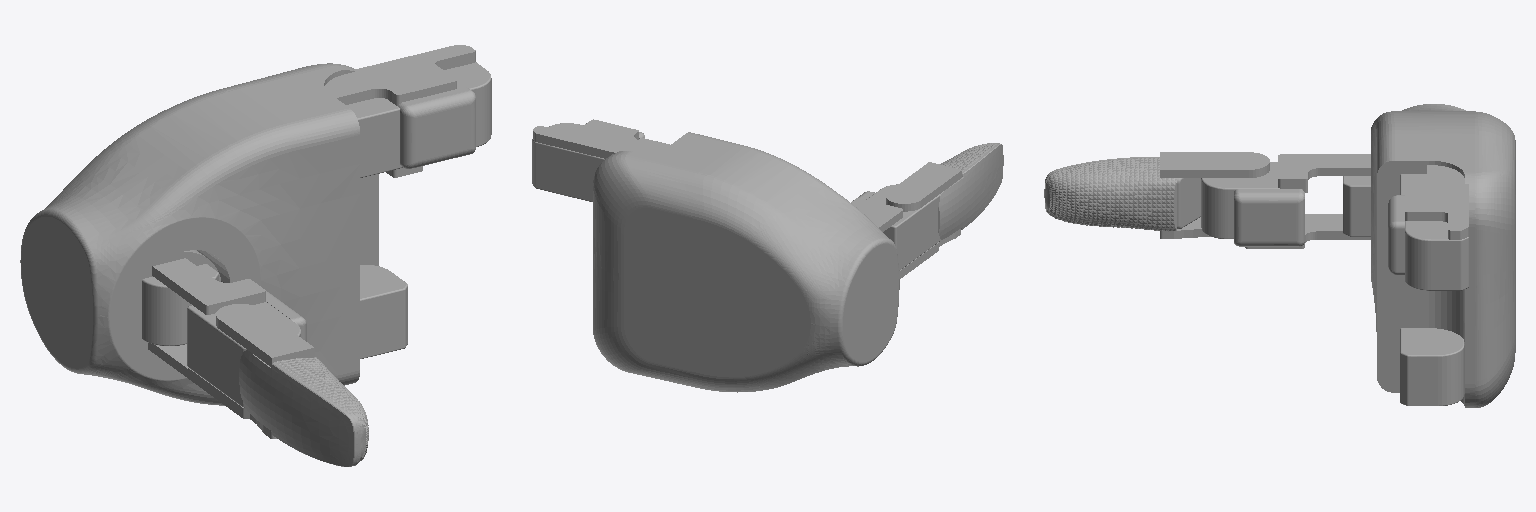
URDF robot description (g1_29dof_with_hand_rev_1_0):
<robot name="g1_29dof_with_hand_rev_1_0">
  <mujoco>
    <compiler meshdir="meshes" discardvisual="false"/>
  </mujoco>

  <!-- [CAUTION] uncomment when convert to mujoco -->
  <!-- <link name="world"></link>
  <joint name="floating_base_joint" type="floating">
    <parent link="world"/>
    <child link="left_hand_palm_link"/>
  </joint> -->

  <link name="left_hand_palm_link">
    <inertial>
      <origin xyz="0.06214634836 -0.00050869656 -0.00058171093" rpy="0 0 0"/>
      <mass value="0.37283854"/>
      <inertia ixx="0.00027535181027" ixy="-0.00001595519465" ixz="-0.00000242161890" iyy="0.00053951827219" iyz="-0.00000042279435" izz="0.00039623390907"/>
    </inertial>
    <visual>
      <origin xyz="0 0 0" rpy="0 0 0"/>
      <geometry>
        <mesh filename="meshes/left_hand_palm_link.STL"/>
      </geometry>
      <material name="white">
        <color rgba="0.7 0.7 0.7 1"/>
      </material>
    </visual>
    <collision>
      <origin xyz="0 0 0" rpy="0 0 0"/>
      <geometry>
        <mesh filename="meshes/left_hand_palm_link.STL"/>
      </geometry>
    </collision>
  </link>
  <joint name="left_hand_thumb_0_joint" type="revolute">
    <origin xyz="0.0255 0 0" rpy="0 0 0"/>
    <axis xyz="0 1 0"/>
    <parent link="left_hand_palm_link"/>
    <child link="left_hand_thumb_0_link"/>
    <limit effort="2.45" velocity="6.857" lower="-1.04719755" upper="1.04719755"/>
  </joint>
  <link name="left_hand_thumb_0_link">
    <inertial>
      <origin xyz="-0.00088424580 -0.00863407079 0.00094429336" rpy="0 0 0"/>
      <mass value="0.08623657"/>
      <inertia ixx="0.00001602919238" ixy="0.00000010683177" ixz="0.00000016728875" iyy="0.00001451795012" iyz="-0.00000051094752" izz="0.00001637877663"/>
    </inertial>
    <visual>
      <origin xyz="0 0 0" rpy="0 0 0"/>
      <geometry>
        <mesh filename="meshes/left_hand_thumb_0_link.STL"/>
      </geometry>
      <material name="white">
        <color rgba="0.7 0.7 0.7 1"/>
      </material>
    </visual>
    <collision>
      <origin xyz="0 0 0" rpy="0 0 0"/>
      <geometry>
        <mesh filename="meshes/left_hand_thumb_0_link.STL"/>
      </geometry>
    </collision>
  </link>
  <joint name="left_hand_thumb_1_joint" type="revolute">
    <origin xyz="-0.0025 -0.0193 0" rpy="0 0 0"/>
    <axis xyz="0 0 1"/>
    <parent link="left_hand_thumb_0_link"/>
    <child link="left_hand_thumb_1_link"/>
    <limit effort="1.4" velocity="12" lower="-0.72431163" upper="1.04719755"/>
  </joint>
  <link name="left_hand_thumb_1_link">
    <inertial>
      <origin xyz="-0.00082788768 -0.03547435774 -0.00038089960" rpy="0 0 0"/>
      <mass value="0.05885070"/>
      <inertia ixx="0.00001274699945" ixy="-0.00000050770784" ixz="0.00000016088850" iyy="0.00000601573947" iyz="-0.00000027839003" izz="0.00001234543582"/>
    </inertial>
    <visual>
      <origin xyz="0 0 0" rpy="0 0 0"/>
      <geometry>
        <mesh filename="meshes/left_hand_thumb_1_link.STL"/>
      </geometry>
      <material name="white">
        <color rgba="0.7 0.7 0.7 1"/>
      </material>
    </visual>
    <collision>
      <origin xyz="-0.001 -0.032 0" rpy="0 0 0"/>
      <geometry>
        <box size="0.02 0.03 0.02"/>
      </geometry>
    </collision>
  </link>
  <joint name="left_hand_thumb_2_joint" type="revolute">
    <origin xyz="0 -0.0458 0" rpy="0 0 0"/>
    <axis xyz="0 0 1"/>
    <parent link="left_hand_thumb_1_link"/>
    <child link="left_hand_thumb_2_link"/>
    <limit effort="1.4" velocity="12" lower="0" upper="1.74532925"/>
  </joint>
  <link name="left_hand_thumb_2_link">
    <inertial>
      <origin xyz="-0.00171735242 -0.02628192939 0.00010778879" rpy="0 0 0"/>
      <mass value="0.02030626"/>
      <inertia ixx="0.00000461267817" ixy="-0.00000003422130" ixz="-0.00000000823881" iyy="0.00000153561368" iyz="-0.00000002549885" izz="0.00000386625776"/>
    </inertial>
    <visual>
      <origin xyz="0 0 0" rpy="0 0 0"/>
      <geometry>
        <mesh filename="meshes/left_hand_thumb_2_link.STL"/>
      </geometry>
      <material name="white">
        <color rgba="0.7 0.7 0.7 1"/>
      </material>
    </visual>
    <collision>
      <origin xyz="0 0 0" rpy="0 0 0"/>
      <geometry>
        <mesh filename="meshes/left_hand_thumb_2_link.STL"/>
      </geometry>
    </collision>
  </link>
  <joint name="left_hand_middle_0_joint" type="revolute">
    <origin xyz="0.0777 0.0016 -0.0285" rpy="0 0 0"/>
    <axis xyz="0 0 1"/>
    <parent link="left_hand_palm_link"/>
    <child link="left_hand_middle_0_link"/>
    <limit effort="1.4" velocity="12" lower="-1.57079632" upper="0"/>
  </joint>
  <link name="left_hand_middle_0_link">
    <inertial>
      <origin xyz="0.03547435774 0.00082788768 0.00038089960" rpy="0 0 0"/>
      <mass value="0.05885070"/>
      <inertia ixx="0.00000601573947" ixy="-0.00000050770784" ixz="-0.00000027839003" iyy="0.00001274699945" iyz="0.00000016088850" izz="0.00001234543582"/>
    </inertial>
    <visual>
      <origin xyz="0 0 0" rpy="0 0 0"/>
      <geometry>
        <mesh filename="meshes/left_hand_middle_0_link.STL"/>
      </geometry>
      <material name="white">
        <color rgba="0.7 0.7 0.7 1"/>
      </material>
    </visual>
    <collision>
      <origin xyz="0 0 0" rpy="0 0 0"/>
      <geometry>
        <mesh filename="meshes/left_hand_middle_0_link.STL"/>
      </geometry>
    </collision>
  </link>
  <joint name="left_hand_middle_1_joint" type="revolute">
    <origin xyz="0.0458 0 0" rpy="0 0 0"/>
    <axis xyz="0 0 1"/>
    <parent link="left_hand_middle_0_link"/>
    <child link="left_hand_middle_1_link"/>
    <limit effort="1.4" velocity="12" lower="-1.74532925" upper="0"/>
  </joint>
  <link name="left_hand_middle_1_link">
    <inertial>
      <origin xyz="0.02628192939 0.00171735242 -0.00010778879" rpy="0 0 0"/>
      <mass value="0.02030626"/>
      <inertia ixx="0.00000153561368" ixy="-0.00000003422130" ixz="-0.00000002549885" iyy="0.00000461267817" iyz="-0.00000000823881" izz="0.00000386625776"/>
    </inertial>
    <visual>
      <origin xyz="0 0 0" rpy="0 0 0"/>
      <geometry>
        <mesh filename="meshes/left_hand_middle_1_link.STL"/>
      </geometry>
      <material name="white">
        <color rgba="0.7 0.7 0.7 1"/>
      </material>
    </visual>
    <collision>
      <origin xyz="0 0 0" rpy="0 0 0"/>
      <geometry>
        <mesh filename="meshes/left_hand_middle_1_link.STL"/>
      </geometry>
    </collision>
  </link>
  <joint name="left_hand_index_0_joint" type="revolute">
    <origin xyz="0.0777 0.0016 0.0285" rpy="0 0 0"/>
    <axis xyz="0 0 1"/>
    <parent link="left_hand_palm_link"/>
    <child link="left_hand_index_0_link"/>
    <limit effort="1.4" velocity="12" lower="-1.57079632" upper="0"/>
  </joint>
  <link name="left_hand_index_0_link">
    <inertial>
      <origin xyz="0.03547435774 0.00082788768 0.00038089960" rpy="0 0 0"/>
      <mass value="0.05885070"/>
      <inertia ixx="0.00000601573947" ixy="-0.00000050770784" ixz="-0.00000027839003" iyy="0.00001274699945" iyz="0.00000016088850" izz="0.00001234543582"/>
    </inertial>
    <visual>
      <origin xyz="0 0 0" rpy="0 0 0"/>
      <geometry>
        <mesh filename="meshes/left_hand_index_0_link.STL"/>
      </geometry>
      <material name="white">
        <color rgba="0.7 0.7 0.7 1"/>
      </material>
    </visual>
    <collision>
      <origin xyz="0 0 0" rpy="0 0 0"/>
      <geometry>
        <mesh filename="meshes/left_hand_index_0_link.STL"/>
      </geometry>
    </collision>
  </link>
  <joint name="left_hand_index_1_joint" type="revolute">
    <origin xyz="0.0458 0 0" rpy="0 0 0"/>
    <axis xyz="0 0 1"/>
    <parent link="left_hand_index_0_link"/>
    <child link="left_hand_index_1_link"/>
    <limit effort="1.4" velocity="12" lower="-1.74532925" upper="0"/>
  </joint>
  <link name="left_hand_index_1_link">
    <inertial>
      <origin xyz="0.02628192939 0.00171735242 -0.00010778879" rpy="0 0 0"/>
      <mass value="0.02030626"/>
      <inertia ixx="0.00000153561368" ixy="-0.00000003422130" ixz="-0.00000002549885" iyy="0.00000461267817" iyz="-0.00000000823881" izz="0.00000386625776"/>
    </inertial>
    <visual>
      <origin xyz="0 0 0" rpy="0 0 0"/>
      <geometry>
        <mesh filename="meshes/left_hand_index_1_link.STL"/>
      </geometry>
      <material name="white">
        <color rgba="0.7 0.7 0.7 1"/>
      </material>
    </visual>
    <collision>
      <origin xyz="0 0 0" rpy="0 0 0"/>
      <geometry>
        <mesh filename="meshes/left_hand_index_1_link.STL"/>
      </geometry>
    </collision>
  </link>
</robot>

--- Render facts (derived) ---
Views: 3 orthographic renders of the robot side by side, from view 1: azimuth 30°, elevation 25°; view 2: azimuth 150°, elevation 25°; view 3: azimuth 270°, elevation 25°.
Model g1_29dof_with_hand_rev_1_0 with 8 links and 7 joints (7 revolute), rooted at left_hand_palm_link, posed every joint at zero.
Visible links, largest first — view 1: left_hand_palm_link, left_hand_thumb_2_link, left_hand_index_0_link, left_hand_thumb_1_link, left_hand_thumb_0_link; view 2: left_hand_palm_link, left_hand_thumb_2_link, left_hand_index_0_link, left_hand_thumb_1_link; view 3: left_hand_palm_link, left_hand_thumb_2_link, left_hand_thumb_1_link, left_hand_index_0_link, left_hand_thumb_0_link.
Boxes of the visible links, x1=… form: left_hand_palm_link: x1=20, y1=63, x2=407, y2=405; left_hand_thumb_2_link: x1=216, y1=304, x2=368, y2=466; left_hand_index_0_link: x1=325, y1=45, x2=491, y2=177; left_hand_thumb_1_link: x1=148, y1=258, x2=306, y2=419; left_hand_thumb_0_link: x1=131, y1=250, x2=220, y2=345; left_hand_palm_link: x1=593, y1=132, x2=899, y2=392; left_hand_thumb_2_link: x1=886, y1=143, x2=1003, y2=246; left_hand_index_0_link: x1=532, y1=119, x2=665, y2=201; left_hand_thumb_1_link: x1=851, y1=184, x2=939, y2=278; left_hand_palm_link: x1=1371, y1=104, x2=1515, y2=407; left_hand_thumb_2_link: x1=1044, y1=152, x2=1269, y2=238; left_hand_thumb_1_link: x1=1201, y1=154, x2=1370, y2=248; left_hand_index_0_link: x1=1388, y1=165, x2=1468, y2=290; left_hand_thumb_0_link: x1=1343, y1=176, x2=1370, y2=236.
Bounding box of the posed robot: 0.1395 × 0.158 × 0.086 m (x, y, z).
5 mesh visuals loaded from 8 distinct referenced files (5 binary STL); not drawn: 3 (reference not matched to a file when rendering).